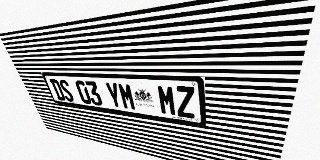0: (74, 80, 92, 105)
3: (85, 81, 103, 106)
D: (49, 79, 66, 101)
M: (156, 85, 177, 116), (117, 83, 137, 111)
S: (58, 79, 75, 102)
Y: (104, 82, 123, 109)
Z: (175, 86, 196, 119)
